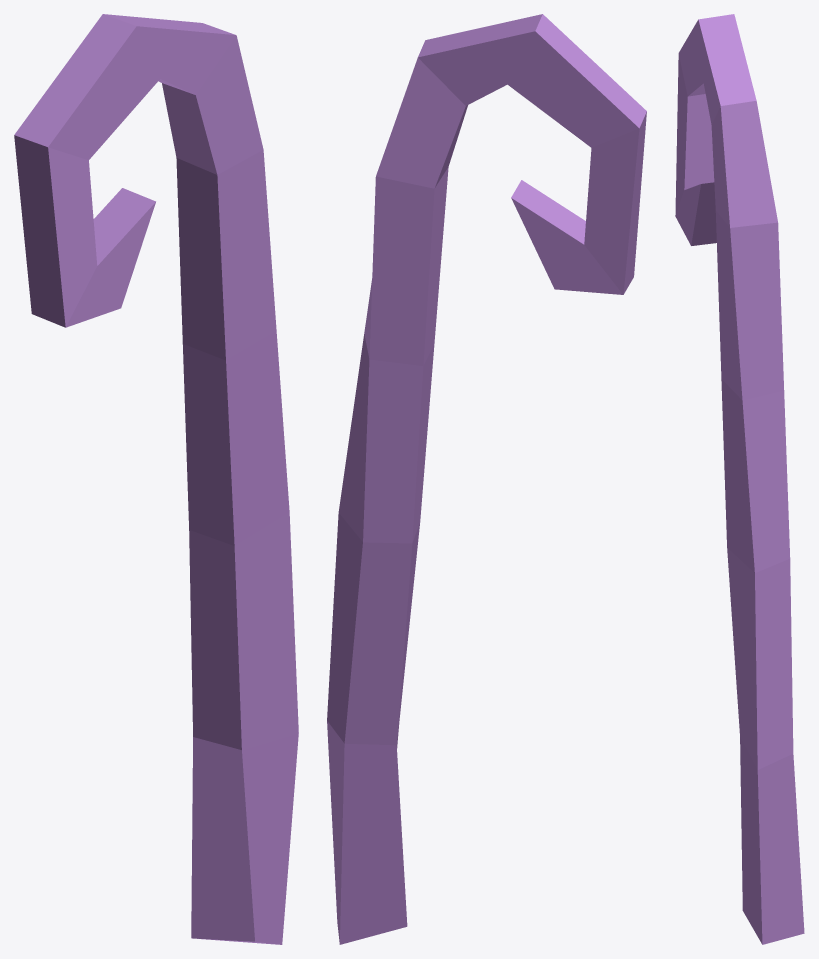
File: stab.fbx
The picture shows the model from 3 angles, left to right: view 1: azimuth 30°, elevation 25°; view 2: azimuth 150°, elevation 25°; view 3: azimuth 270°, elevation 25°; orthographic projection. The views are drawn at different scales.
Parts seen in each view (by area): view 1: Plane.002; view 2: Plane.002; view 3: Plane.002.
Part boxes in pixels (x1=…): Plane.002: x1=14, y1=14, x2=298, y2=944; Plane.002: x1=327, y1=14, x2=646, y2=944; Plane.002: x1=675, y1=14, x2=804, y2=944.
Size of the model in its own units: 56.32 by 172 by 23.71.
